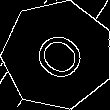O_SE: (24, 23, 92, 87)
